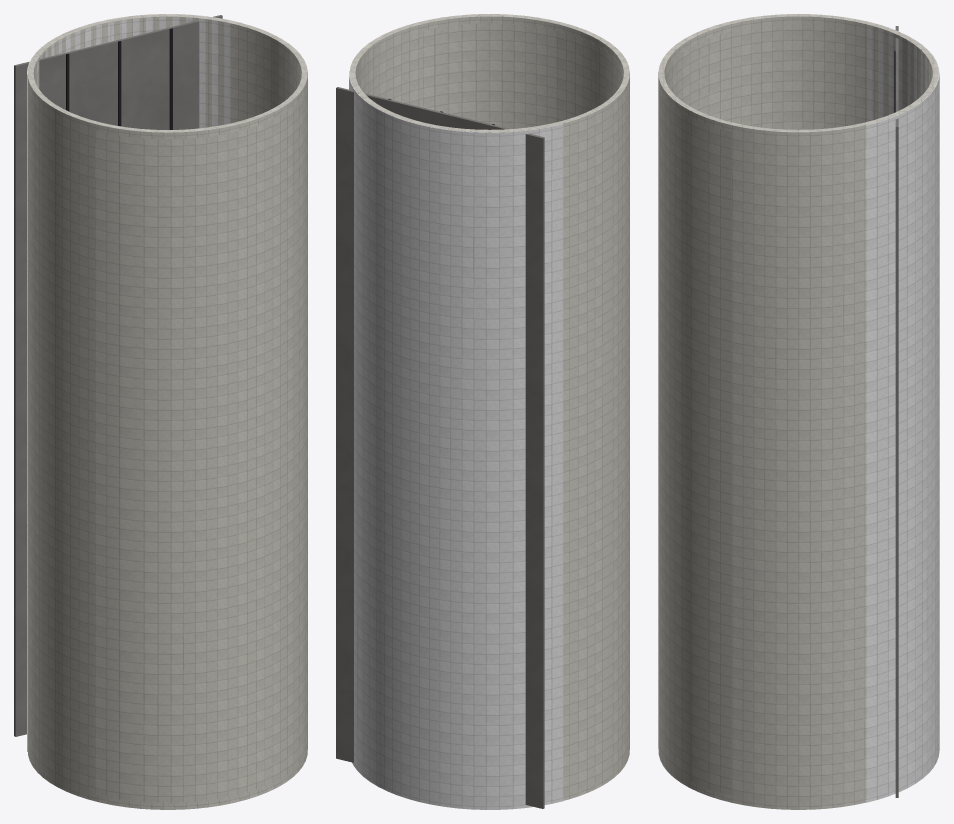
The model's file is aero03_cargo_bay_mk3_1000.glb.
3 renders of one model, left to right at view 1: azimuth 30°, elevation 25°; view 2: azimuth 150°, elevation 25°; view 3: azimuth 270°, elevation 25°, orthographic.
Visible parts, largest first — view 1: door_l, fuselage, door_r, cargo_floor, belly_tiles, floor_rails; view 2: belly_tiles, fuselage, cargo_floor, door_r, door_l; view 3: fuselage, belly_tiles, door_r, door_l, cargo_floor.
Part boxes in pixels (x1,y1,x2,y2): door_l: [95, 131, 237, 803]; fuselage: [27, 14, 307, 809]; door_r: [238, 79, 307, 794]; cargo_floor: [14, 15, 222, 736]; belly_tiles: [27, 14, 239, 751]; floor_rails: [66, 28, 172, 129]; belly_tiles: [349, 72, 563, 809]; fuselage: [349, 14, 629, 800]; cargo_floor: [336, 87, 544, 808]; door_r: [423, 23, 556, 128]; door_l: [557, 31, 623, 121]; fuselage: [658, 14, 938, 809]; belly_tiles: [866, 21, 939, 802]; door_r: [658, 80, 731, 795]; door_l: [664, 31, 731, 121]; cargo_floor: [895, 26, 898, 797].
Size of the model in its own units: 3.75 by 10 by 3.76.
Materials: 4 (3 with a texture image).
